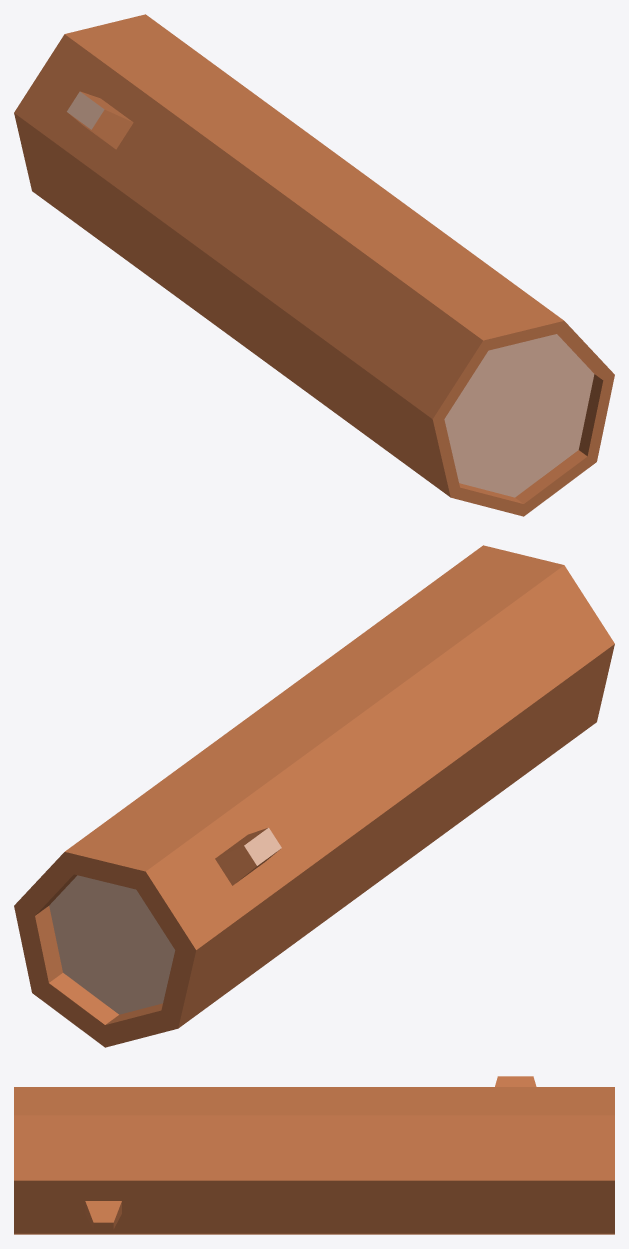
Rendered from trunk.glb.
3 renders of one model, top to bottom at view 1: azimuth 30°, elevation 25°; view 2: azimuth 150°, elevation 25°; view 3: azimuth 270°, elevation 25°, orthographic. The views are drawn at different scales.
Parts seen in each view (by area): view 1: Cylinder; view 2: Cylinder; view 3: Cylinder.
Part boxes in pixels (x1,y1,x2,y2): Cylinder: (14, 14, 614, 516); Cylinder: (14, 545, 614, 1047); Cylinder: (14, 1076, 614, 1234).
Bounding box in the file's own units: 2.3 × 1.9 × 7.76.
